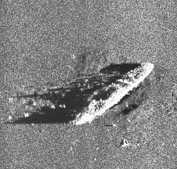ship: (68, 60, 156, 125)
